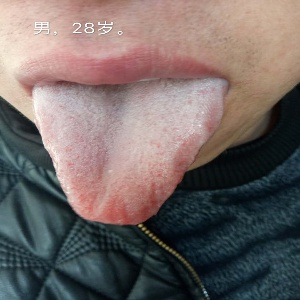st: (27, 89, 227, 228)
